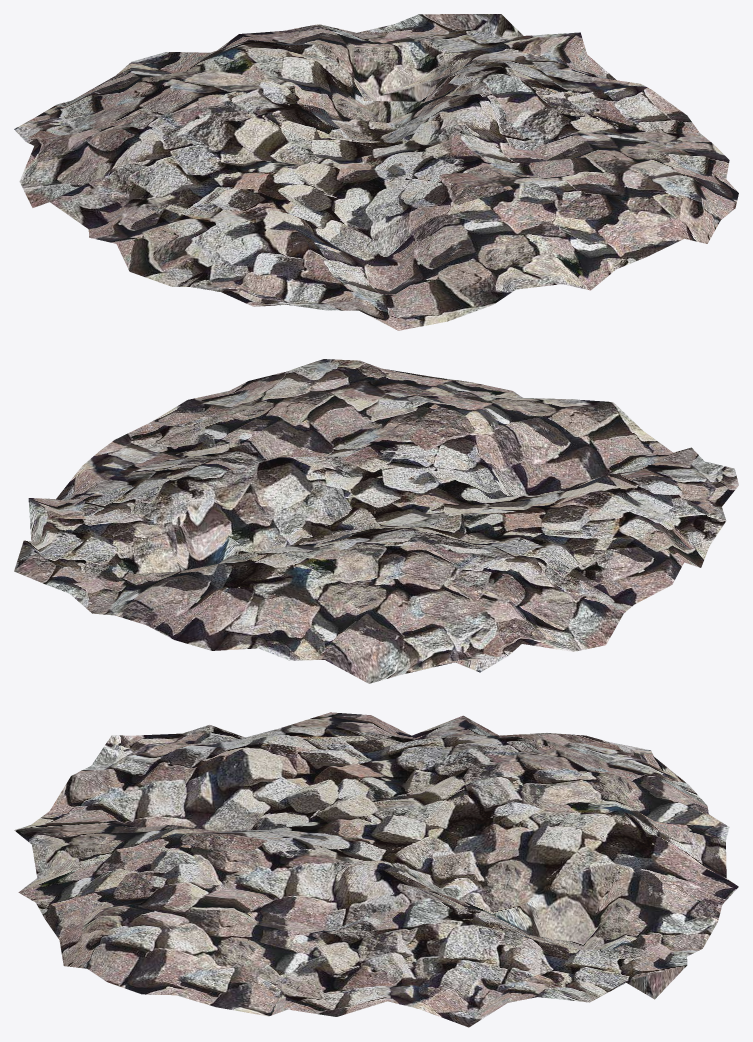
File: Rocks_Plane_2.fbx
The picture shows the model from 3 angles, top to bottom: view 1: azimuth 30°, elevation 25°; view 2: azimuth 150°, elevation 25°; view 3: azimuth 270°, elevation 25°; orthographic projection. The views are drawn at different scales.
Parts seen in each view (by area): view 1: Rocks_Plane_2; view 2: Rocks_Plane_2; view 3: Rocks_Plane_2.
Part boxes in pixels (box(x1,y1,x2,y2)): Rocks_Plane_2: box(14, 14, 738, 330); Rocks_Plane_2: box(14, 359, 738, 683); Rocks_Plane_2: box(14, 712, 738, 1027).
Size of the model in its own units: 495 by 71.47 by 515.
Materials: 1 (1 with a texture image).
